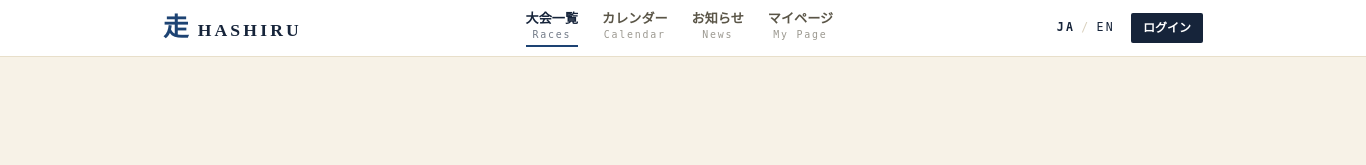
Test: Header - 未ログイン状態 › ログインボタンをクリックするとドロップダウンが開く
Click the button "ログイン": (1167, 28) [1131,13,1203,43]
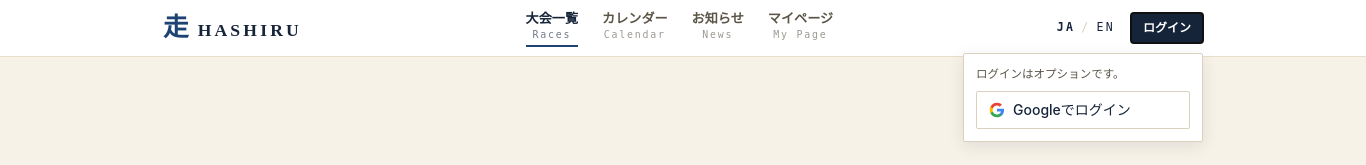
Expected: the button "Googleでログイン" is shown, [976,91,1190,129]
